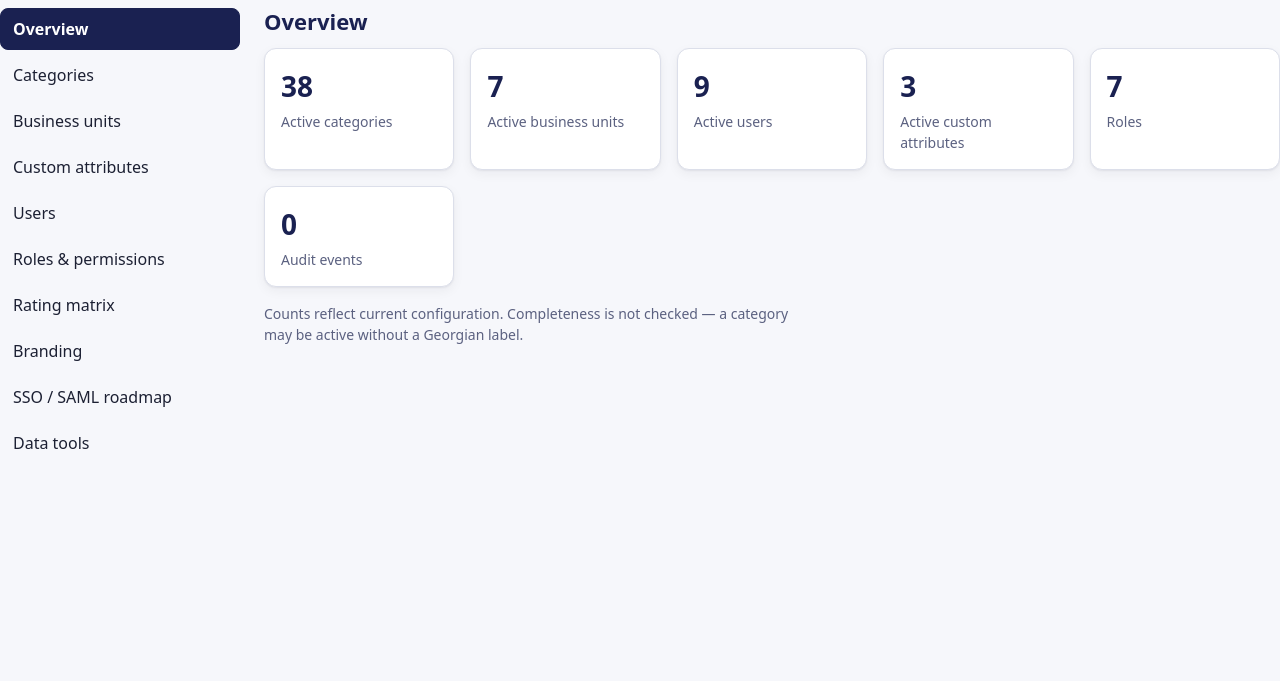
categories › shows how many records use a category
The width and height of the screenshot is (1280, 681).
Step 1. Click the button "Categories" → (120, 75), box [0,54,240,96]
(page scrolled)
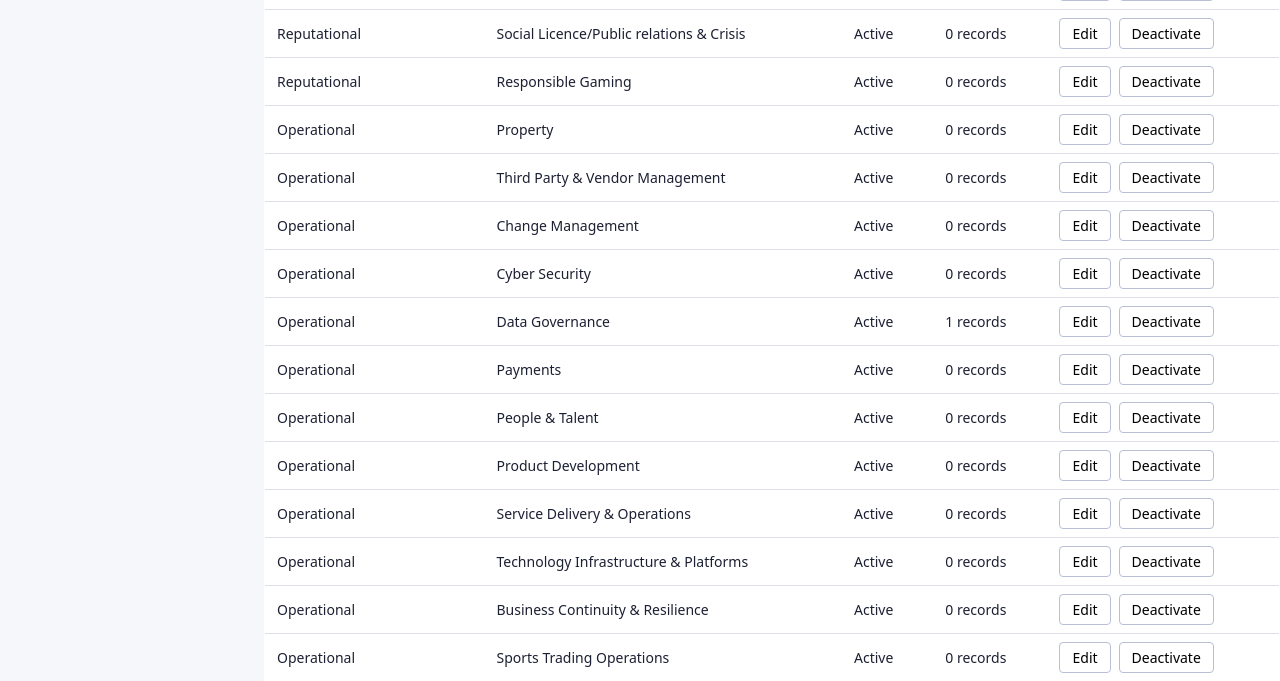
Expected: the text "1 records" is shown, [933,298,1048,346]
